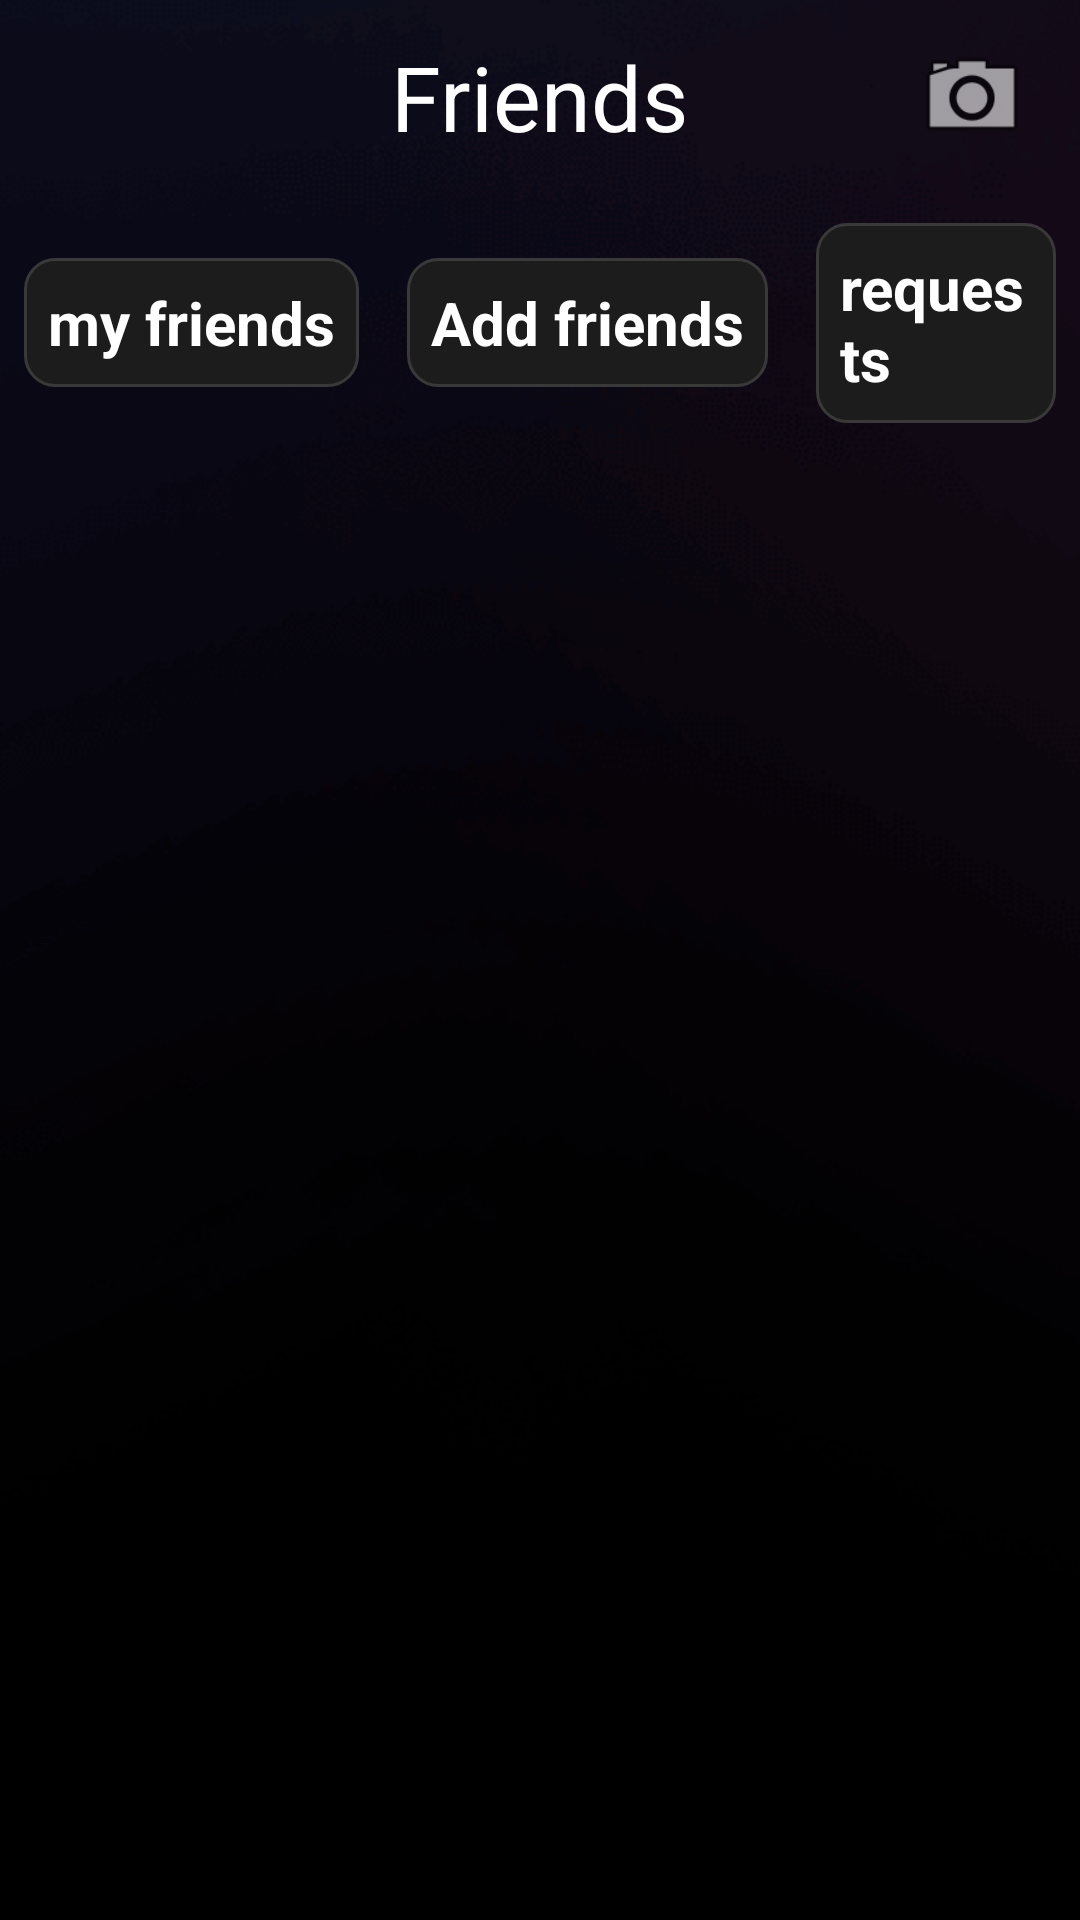

Icons on this 1080px x 1920px Android screen, each with the point to tap as [x,y]:
camera: [972,94]
